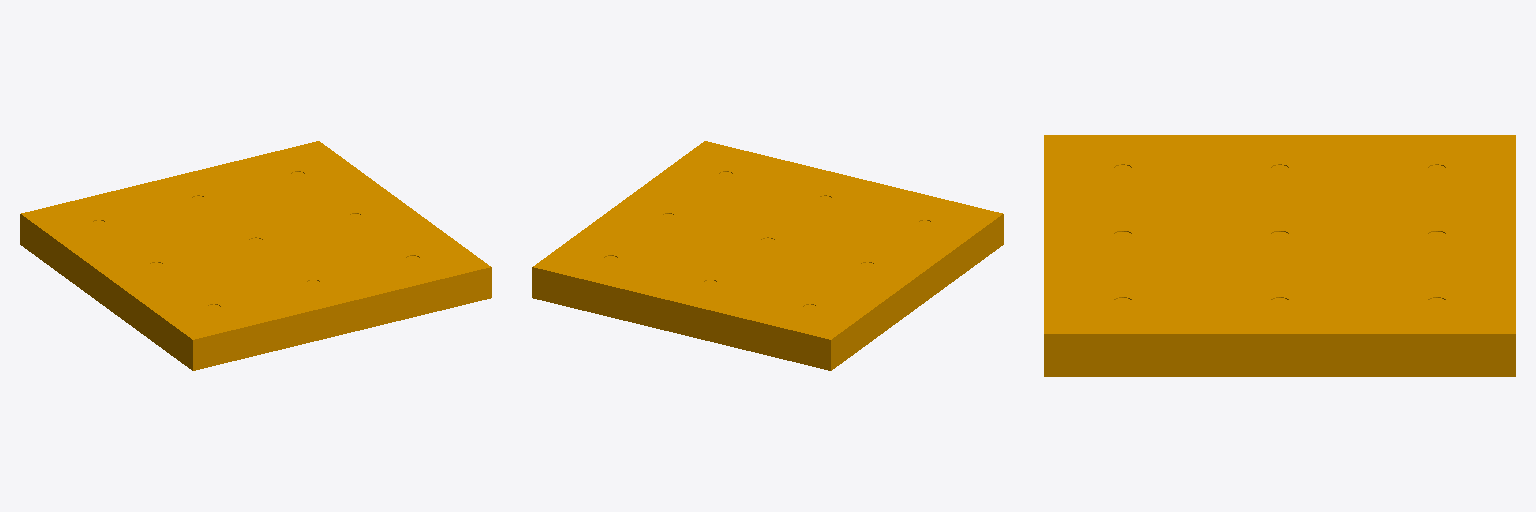
robot.urdf — base_plate:
<?xml version="1.0" ?>
<robot name="base_plate">

<link name="base_plate_base_link">
  <inertial>
    <origin xyz="2.842813972411771e-17 2.842813972411771e-18 0.002499445697675675" rpy="0 0 0"/>
    <mass value="0.09810280464790237"/>
    <inertia ixx="2.1e-05" iyy="2.1e-05" izz="4.1e-05" ixy="0.0" iyz="0.0" ixz="-0.0"/>
  </inertial>
  <visual>
    <origin xyz="0 0 0" rpy="0 0 0"/>
    <geometry>
      <mesh filename="meshes/base_plate_base_link.stl" scale="0.001 0.001 0.001"/>
    </geometry>
    <material name="silver"/>
  </visual>
  <collision>
    <origin xyz="0 0 0" rpy="0 0 0"/>
    <geometry>
      <mesh filename="meshes/base_plate_base_link.stl" scale="0.001 0.001 0.001"/>
    </geometry>
  </collision>
</link>

<link name="base_plate_APC1_2">
  <inertial>
    <origin xyz="3.333333333452315e-07 -3.333333333382926e-07 0.0" rpy="0 0 0"/>
    <mass value="3.288200310757325e-05"/>
    <inertia ixx="0.0" iyy="0.0" izz="0.0" ixy="0.0" iyz="-0.0" ixz="0.0"/>
  </inertial>
  
  
</link>

<link name="base_plate_APE1_2">
  <inertial>
    <origin xyz="3.333333333348232e-07 -4.529598545378531e-18 0.0" rpy="0 0 0"/>
    <mass value="3.288200310757325e-05"/>
    <inertia ixx="0.0" iyy="0.0" izz="0.0" ixy="-0.0" iyz="-0.0" ixz="0.0"/>
  </inertial>
  
  
</link>

<link name="base_plate_APC2_2">
  <inertial>
    <origin xyz="3.333333333382926e-07 3.3333333332441484e-07 0.0" rpy="0 0 0"/>
    <mass value="3.288200310757325e-05"/>
    <inertia ixx="0.0" iyy="0.0" izz="0.0" ixy="0.0" iyz="-0.0" ixz="0.0"/>
  </inertial>
  
  
</link>

<link name="base_plate_APE2_2">
  <inertial>
    <origin xyz="4.4001814440819565e-18 3.333333333278843e-07 0.0" rpy="0 0 0"/>
    <mass value="3.2882003107573594e-05"/>
    <inertia ixx="0.0" iyy="0.0" izz="0.0" ixy="-0.0" iyz="0.0" ixz="0.0"/>
  </inertial>
  
  
</link>

<link name="base_plate_APC3_1">
  <inertial>
    <origin xyz="-3.3333333332441484e-07 3.3333333332441484e-07 0.0" rpy="0 0 0"/>
    <mass value="3.288200310757325e-05"/>
    <inertia ixx="0.0" iyy="0.0" izz="0.0" ixy="-0.0" iyz="-0.0" ixz="0.0"/>
  </inertial>
  
  
</link>

<link name="base_plate_APE4_1">
  <inertial>
    <origin xyz="-3.3333333332441484e-07 -4.529598545378531e-18 0.0" rpy="0 0 0"/>
    <mass value="3.288200310757325e-05"/>
    <inertia ixx="0.0" iyy="0.0" izz="0.0" ixy="-0.0" iyz="-0.0" ixz="0.0"/>
  </inertial>
  
  
</link>

<link name="base_plate_APC4_1">
  <inertial>
    <origin xyz="-3.3333333332441484e-07 -3.333333333382926e-07 0.0" rpy="0 0 0"/>
    <mass value="3.288200310757325e-05"/>
    <inertia ixx="0.0" iyy="0.0" izz="0.0" ixy="0.0" iyz="-0.0" ixz="0.0"/>
  </inertial>
  
  
</link>

<link name="base_plate_APE3_2">
  <inertial>
    <origin xyz="4.52959854537853e-18 -3.333333333348232e-07 0.0" rpy="0 0 0"/>
    <mass value="3.288200310757326e-05"/>
    <inertia ixx="0.0" iyy="0.0" izz="0.0" ixy="0.0" iyz="0.0" ixz="-0.0"/>
  </inertial>
  
  
</link>

<link name="base_plate_APM_2">
  <inertial>
    <origin xyz="5.937719349907654e-18 -4.400181444081978e-18 -8.673617379884035e-19" rpy="0 0 0"/>
    <mass value="3.288200310757341e-05"/>
    <inertia ixx="0.0" iyy="0.0" izz="0.0" ixy="0.0" iyz="0.0" ixz="-0.0"/>
  </inertial>
  
  
</link>

<joint name="Rigid 11" type="fixed">
  <origin xyz="-0.016667 0.016667 0.0049" rpy="0 0 0"/>
  <parent link="base_plate_base_link"/>
  <child link="base_plate_APC1_2"/>
</joint>

<joint name="Rigid 12" type="fixed">
  <origin xyz="-0.016667 0.0 0.0049" rpy="0 0 0"/>
  <parent link="base_plate_base_link"/>
  <child link="base_plate_APE1_2"/>
</joint>

<joint name="Rigid 13" type="fixed">
  <origin xyz="-0.016667 -0.016667 0.0049" rpy="0 0 0"/>
  <parent link="base_plate_base_link"/>
  <child link="base_plate_APC2_2"/>
</joint>

<joint name="Rigid 14" type="fixed">
  <origin xyz="0.0 -0.016667 0.0049" rpy="0 0 0"/>
  <parent link="base_plate_base_link"/>
  <child link="base_plate_APE2_2"/>
</joint>

<joint name="Rigid 15" type="fixed">
  <origin xyz="0.016667 -0.016667 0.0049" rpy="0 0 0"/>
  <parent link="base_plate_base_link"/>
  <child link="base_plate_APC3_1"/>
</joint>

<joint name="Rigid 16" type="fixed">
  <origin xyz="0.016667 0.0 0.0049" rpy="0 0 0"/>
  <parent link="base_plate_base_link"/>
  <child link="base_plate_APE4_1"/>
</joint>

<joint name="Rigid 17" type="fixed">
  <origin xyz="0.016667 0.016667 0.0049" rpy="0 0 0"/>
  <parent link="base_plate_base_link"/>
  <child link="base_plate_APC4_1"/>
</joint>

<joint name="Rigid 18" type="fixed">
  <origin xyz="0.0 0.016667 0.0049" rpy="0 0 0"/>
  <parent link="base_plate_base_link"/>
  <child link="base_plate_APE3_2"/>
</joint>

<joint name="Rigid 19" type="fixed">
  <origin xyz="0.0 0.0 0.0049" rpy="0 0 0"/>
  <parent link="base_plate_base_link"/>
  <child link="base_plate_APM_2"/>
</joint>

</robot>

--- Facts derived from the render (not from the file) ---
3 views of the same robot in one strip: view 1: azimuth 30°, elevation 25°; view 2: azimuth 150°, elevation 25°; view 3: azimuth 270°, elevation 25° (orthographic).
Robot: base_plate — 10 links, 9 joints (9 fixed); root link base_plate_base_link; default pose: every joint at zero.
Visible links, largest first — view 1: base_plate_base_link; view 2: base_plate_base_link; view 3: base_plate_base_link.
Boxes of the visible links, box(x1,y1,x2,y2) form: base_plate_base_link: box(20, 141, 491, 370); base_plate_base_link: box(532, 141, 1003, 370); base_plate_base_link: box(1044, 135, 1515, 376).
Bounding box of the posed robot: 0.05 × 0.05 × 0.005 m (x, y, z).
Meshes: 1 distinct files referenced, 1 mesh visuals loaded (1 binary STL).